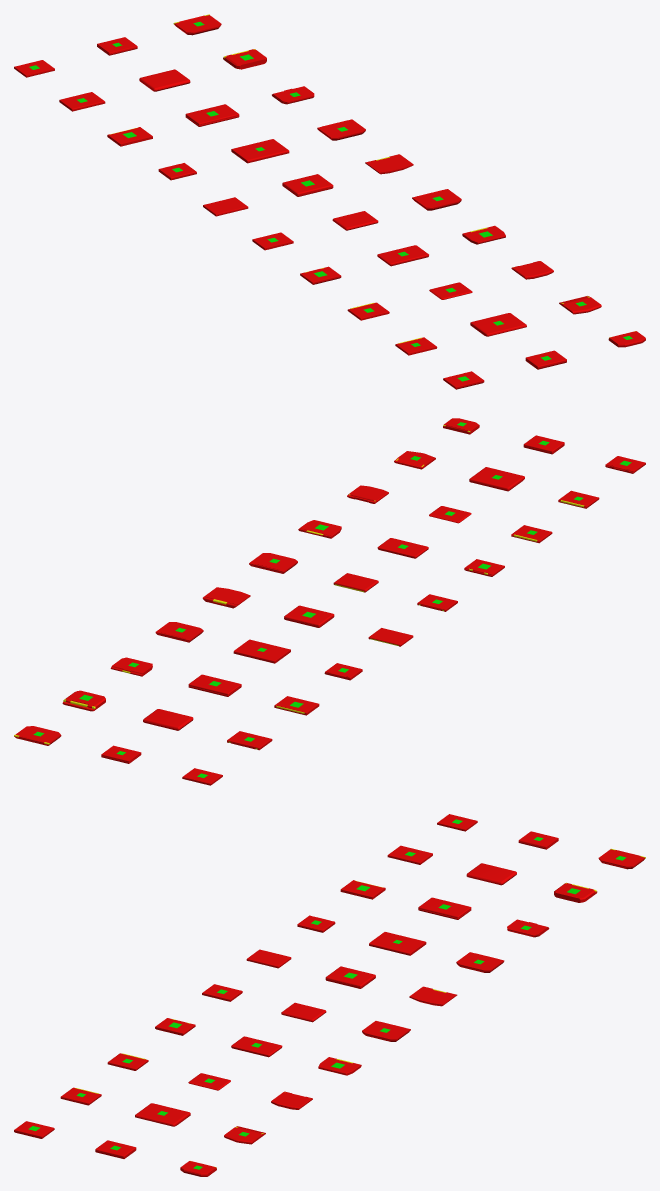
Rendered from laptops_grp.fbx.
3 renders of one model, top to bottom at view 1: azimuth 30°, elevation 25°; view 2: azimuth 150°, elevation 25°; view 3: azimuth 330°, elevation 25°, orthographic.
Visible parts, largest first — view 1: laptop_lid_12, laptop_lid_17, laptop_lid_18, laptop_lid_19, laptop_lid_16, laptop_lid_25, laptop_lid_27, laptop_lid_14, laptop_lid_30, laptop_lid_26; view 2: laptop_lid_12, laptop_lid_17, laptop_lid_18, laptop_lid_19, laptop_lid_16, laptop_lid_25, laptop_lid_14, laptop_lid_27, laptop_lid_26, laptop_lid_15; view 3: laptop_lid_12, laptop_lid_17, laptop_lid_18, laptop_lid_19, laptop_lid_16, laptop_lid_25, laptop_lid_27, laptop_lid_14, laptop_lid_30, laptop_lid_26.
Boxes of the visible parts, x1=… form: laptop_lid_12: x1=470, y1=313, x2=526, y2=335; laptop_lid_17: x1=231, y1=139, x2=289, y2=161; laptop_lid_18: x1=185, y1=104, x2=239, y2=125; laptop_lid_19: x1=139, y1=69, x2=190, y2=90; laptop_lid_16: x1=282, y1=174, x2=333, y2=194; laptop_lid_25: x1=412, y1=189, x2=461, y2=208; laptop_lid_27: x1=317, y1=119, x2=365, y2=138; laptop_lid_14: x1=377, y1=245, x2=428, y2=264; laptop_lid_30: x1=173, y1=14, x2=221, y2=33; laptop_lid_26: x1=366, y1=155, x2=413, y2=173; laptop_lid_12: x1=469, y1=467, x2=524, y2=489; laptop_lid_17: x1=233, y1=639, x2=290, y2=661; laptop_lid_18: x1=188, y1=674, x2=241, y2=695; laptop_lid_19: x1=143, y1=709, x2=193, y2=729; laptop_lid_16: x1=284, y1=605, x2=334, y2=625; laptop_lid_25: x1=249, y1=553, x2=297, y2=572; laptop_lid_14: x1=377, y1=538, x2=428, y2=556; laptop_lid_27: x1=155, y1=622, x2=203, y2=641; laptop_lid_26: x1=204, y1=587, x2=250, y2=605; laptop_lid_15: x1=333, y1=573, x2=378, y2=592; laptop_lid_12: x1=135, y1=1103, x2=190, y2=1125; laptop_lid_17: x1=369, y1=932, x2=426, y2=954; laptop_lid_18: x1=418, y1=897, x2=471, y2=918; laptop_lid_19: x1=466, y1=863, x2=516, y2=883; laptop_lid_16: x1=325, y1=966, x2=375, y2=986; laptop_lid_25: x1=362, y1=1021, x2=410, y2=1040; laptop_lid_27: x1=456, y1=952, x2=504, y2=971; laptop_lid_14: x1=231, y1=1036, x2=282, y2=1055; laptop_lid_30: x1=598, y1=848, x2=645, y2=867; laptop_lid_26: x1=409, y1=987, x2=455, y2=1005.
Bounding box in the file's own units: 241 × 7.45 × 931.
